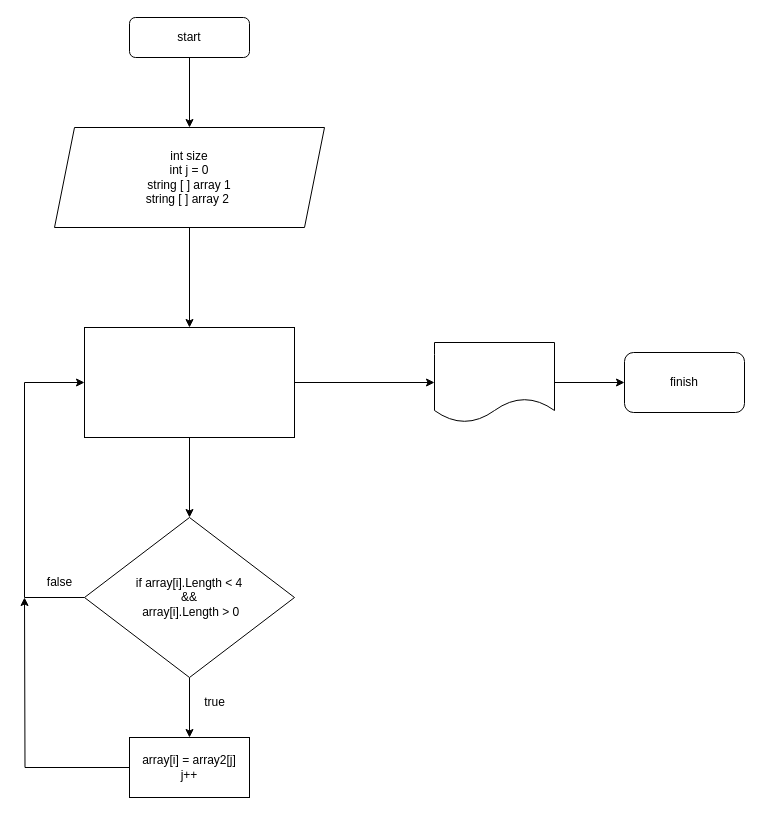
This 762x815 diagram has some shape labels left out. Here are the shapes that lost their labels. From the top down, the box of each, then its label:
(84, 326, 294, 438): for (int i = 0, i < array.Length, i++)
(434, 342, 554, 422): print array2
